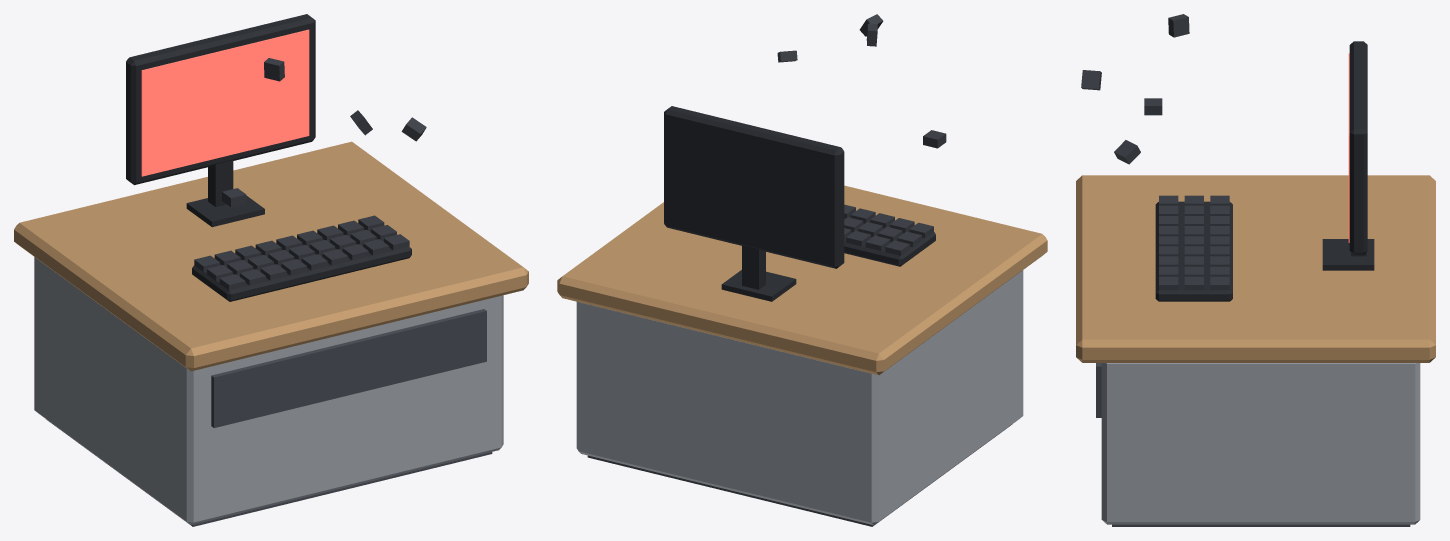
Rendered from keyboardsmash_1.glb.
3 views of the same model, side by side, from view 1: azimuth 30°, elevation 25°; view 2: azimuth 150°, elevation 25°; view 3: azimuth 270°, elevation 25° (orthographic). The views are drawn at different scales.
Visible parts, largest first — view 1: keyboardsmash_1_mesh_Desk, keyboardsmash_1_mesh; view 2: keyboardsmash_1_mesh_Desk, keyboardsmash_1_mesh; view 3: keyboardsmash_1_mesh_Desk, keyboardsmash_1_mesh.
Boxes of the visible parts, x1=… form: keyboardsmash_1_mesh_Desk: x1=14, y1=141, x2=528, y2=526; keyboardsmash_1_mesh: x1=126, y1=14, x2=426, y2=301; keyboardsmash_1_mesh_Desk: x1=557, y1=185, x2=1047, y2=526; keyboardsmash_1_mesh: x1=664, y1=14, x2=946, y2=301; keyboardsmash_1_mesh_Desk: x1=1076, y1=175, x2=1435, y2=526; keyboardsmash_1_mesh: x1=1081, y1=14, x2=1374, y2=301.
Size of the model in its own units: 0.78 by 0.8982 by 0.7.
